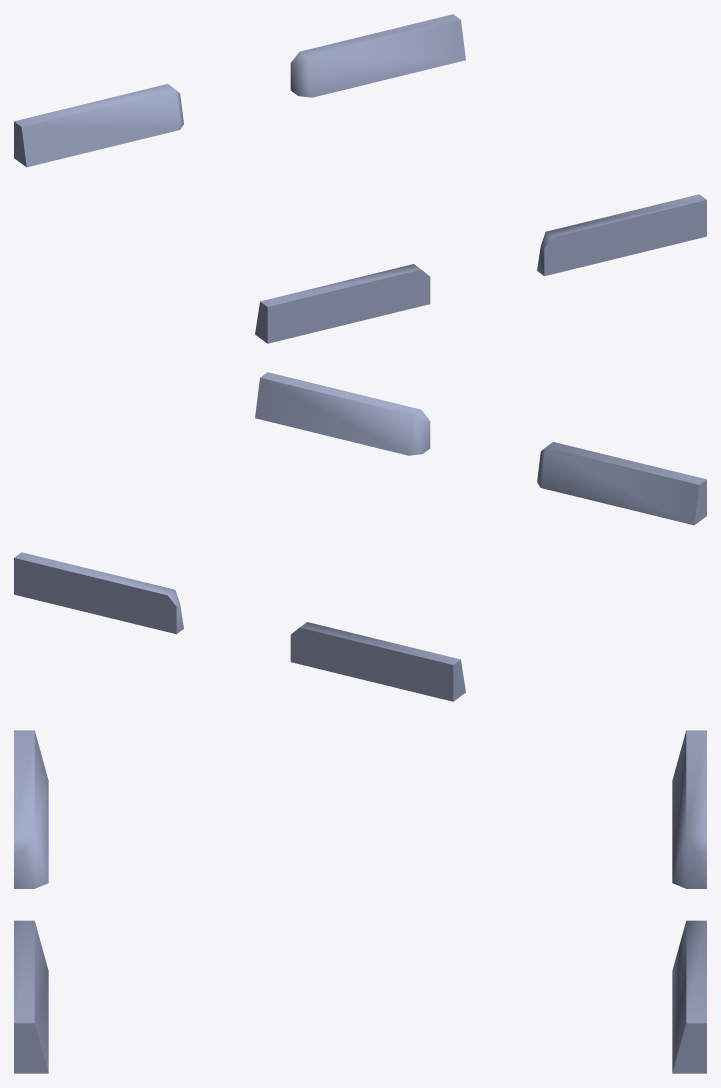
File: road-driveway-double-barrier.glb
3 renders of one model, top to bottom at view 1: azimuth 30°, elevation 25°; view 2: azimuth 150°, elevation 25°; view 3: azimuth 270°, elevation 25°, orthographic. The views are drawn at different scales.
Parts seen in each view (by area): view 1: road-driveway-double-barrier; view 2: road-driveway-double-barrier; view 3: road-driveway-double-barrier.
Boxes of the visible parts, x1=… form: road-driveway-double-barrier: x1=14, y1=14, x2=706, y2=343; road-driveway-double-barrier: x1=14, y1=372, x2=706, y2=701; road-driveway-double-barrier: x1=14, y1=730, x2=706, y2=1073.
Bounding box in the file's own units: 1 × 0.08 × 1.
1 material, 1 textured.
